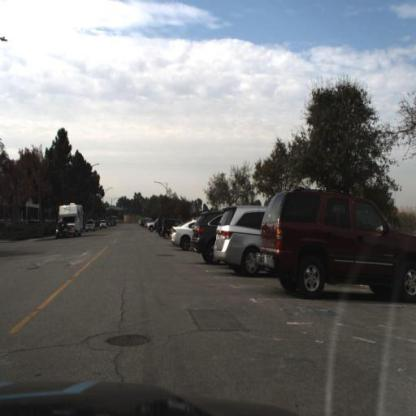car: (258, 180, 416, 312), (212, 203, 262, 280), (191, 204, 218, 264), (171, 216, 195, 251), (53, 218, 71, 241), (158, 215, 172, 241), (83, 217, 97, 233)
truck: (60, 202, 86, 236)
